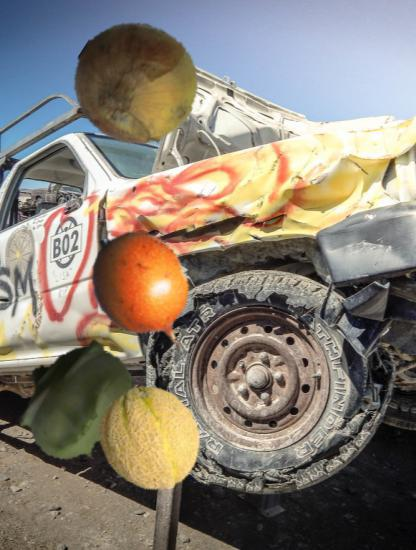Cantaloupe: (95, 383, 205, 493)
Granadilla: (78, 227, 215, 364)
Kohlrabi: (14, 339, 142, 467)
Onion: (73, 21, 198, 146)
